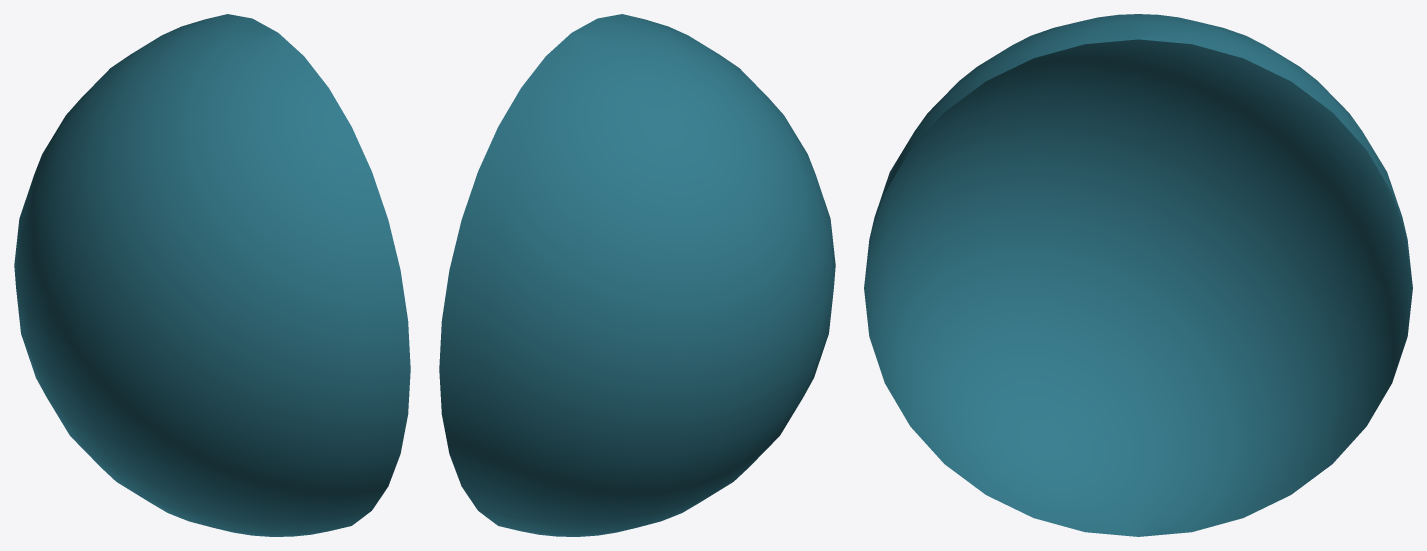
The model's file is Equirectangular sphere half.FBX.
3 renders of one model, left to right at view 1: azimuth 30°, elevation 25°; view 2: azimuth 150°, elevation 25°; view 3: azimuth 270°, elevation 25°, orthographic. The views are drawn at different scales.
Parts seen in each view (by area): view 1: Equirectangular sphere half; view 2: Equirectangular sphere half; view 3: Equirectangular sphere half.
Boxes of the visible parts, left/top/right/bottom form: Equirectangular sphere half: left=14, top=14, right=410, bottom=536; Equirectangular sphere half: left=439, top=14, right=835, bottom=536; Equirectangular sphere half: left=864, top=14, right=1412, bottom=536.
Bounding box in the file's own units: 50 × 100 × 100.
